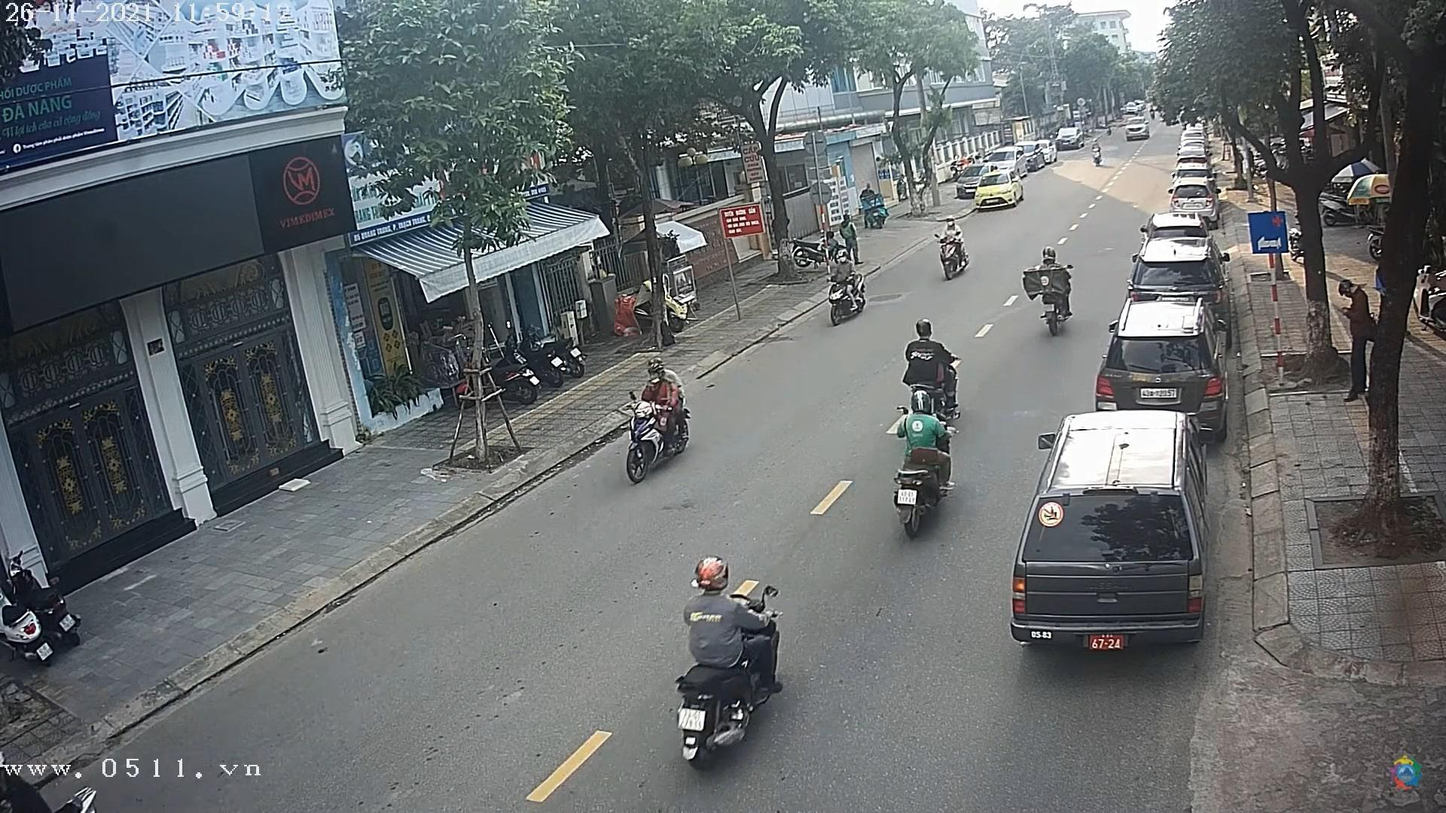car: (1015, 413, 1208, 650), (1097, 309, 1227, 434), (1128, 238, 1224, 302), (1057, 125, 1089, 149)
motorbike: (675, 660, 780, 765), (622, 401, 689, 482), (892, 451, 955, 536), (1021, 263, 1075, 330), (903, 374, 962, 422), (823, 276, 867, 327), (940, 236, 971, 283)
